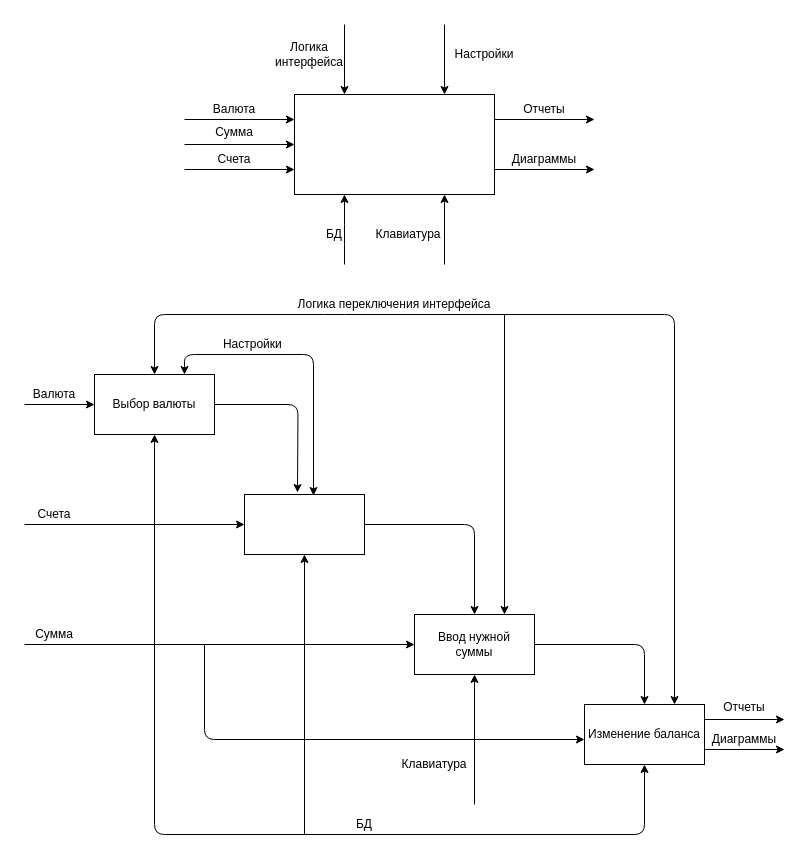
The diagram is 810 pixels wide and 861 high, and some of its shapes have lost their labels. Here are the shapes that lost their labels. From the top down, the centre of each, then its label:
At point (394, 144): "Подсчёт доходов/расходов".
At point (304, 524): "Выбор счёта".
